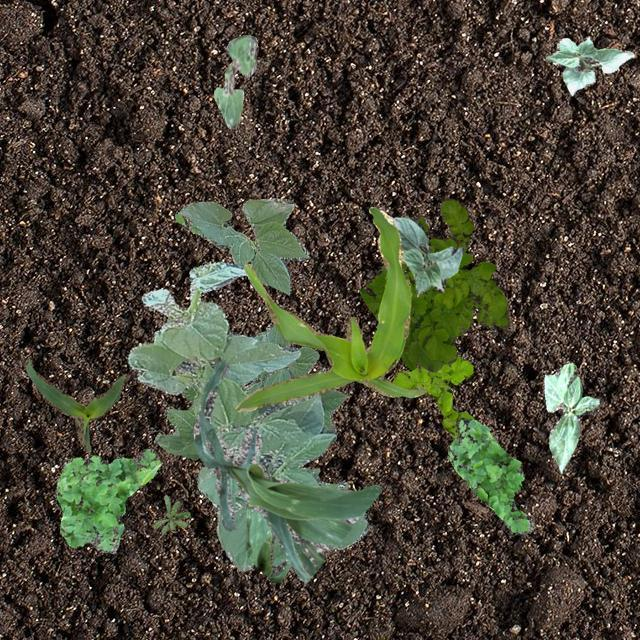crop: (127, 260, 336, 570), (192, 358, 380, 582), (232, 206, 426, 410), (174, 198, 308, 294), (246, 324, 346, 431), (154, 369, 270, 458), (270, 466, 368, 566), (23, 358, 128, 450), (244, 444, 290, 582), (542, 362, 598, 472), (388, 216, 462, 296), (544, 36, 632, 94), (212, 34, 256, 128)
weed: (358, 198, 508, 370), (54, 448, 160, 552), (448, 416, 534, 534), (392, 356, 474, 442), (152, 493, 188, 532)
